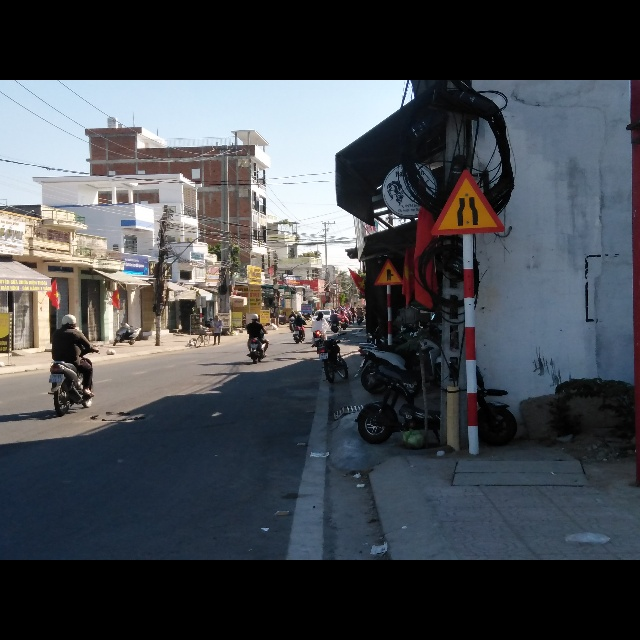Giao nhau với đường không ưu tiên: (373, 259, 402, 285)
Đường bị hẹp cả hai bên: (429, 168, 506, 237)
